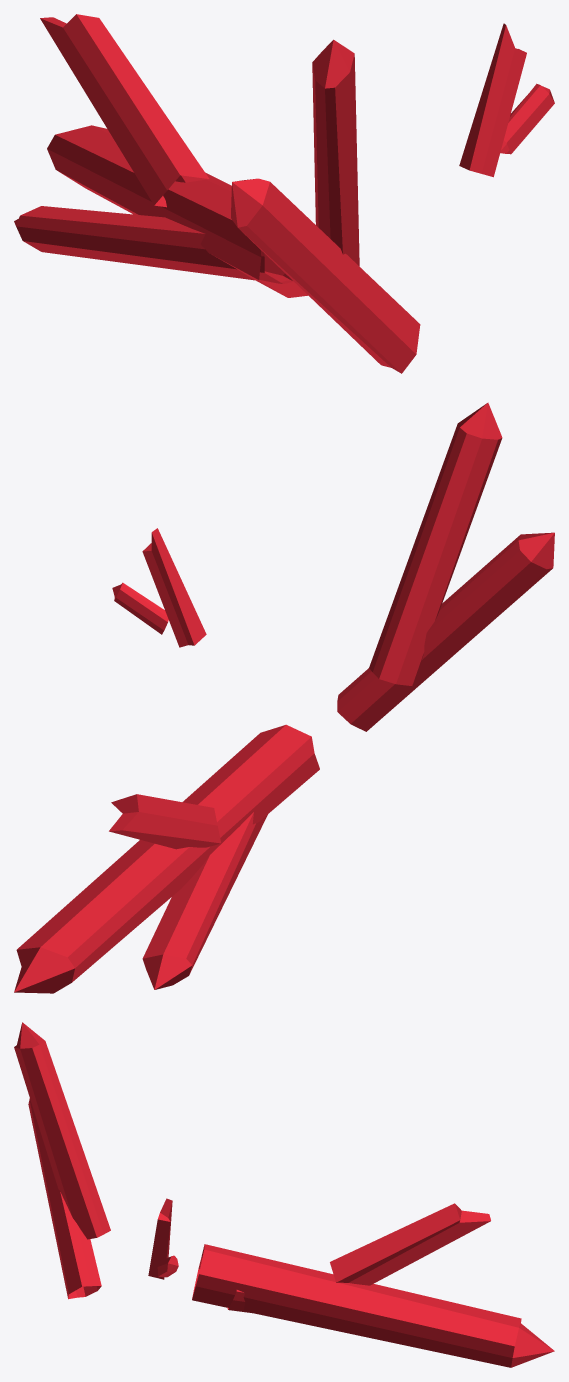
The model's file is hopeite.glb.
3 renders of one model, top to bottom at view 1: azimuth 30°, elevation 25°; view 2: azimuth 150°, elevation 25°; view 3: azimuth 270°, elevation 25°, orthographic. The views are drawn at different scales.
Parts seen in each view (by area): view 1: stone-03CrystalsLOD0; view 2: stone-03CrystalsLOD0; view 3: stone-03CrystalsLOD0.
Boxes of the visible parts, <box> form: stone-03CrystalsLOD0: <box>14,14,554,373</box>; stone-03CrystalsLOD0: <box>14,402,554,993</box>; stone-03CrystalsLOD0: <box>14,1022,554,1367</box>.
Size of what is drawn, in the model's own units: 0.9831 by 1.03 by 1.7.
